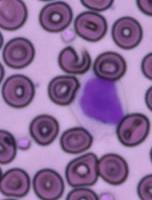L: (71, 74, 127, 125)
